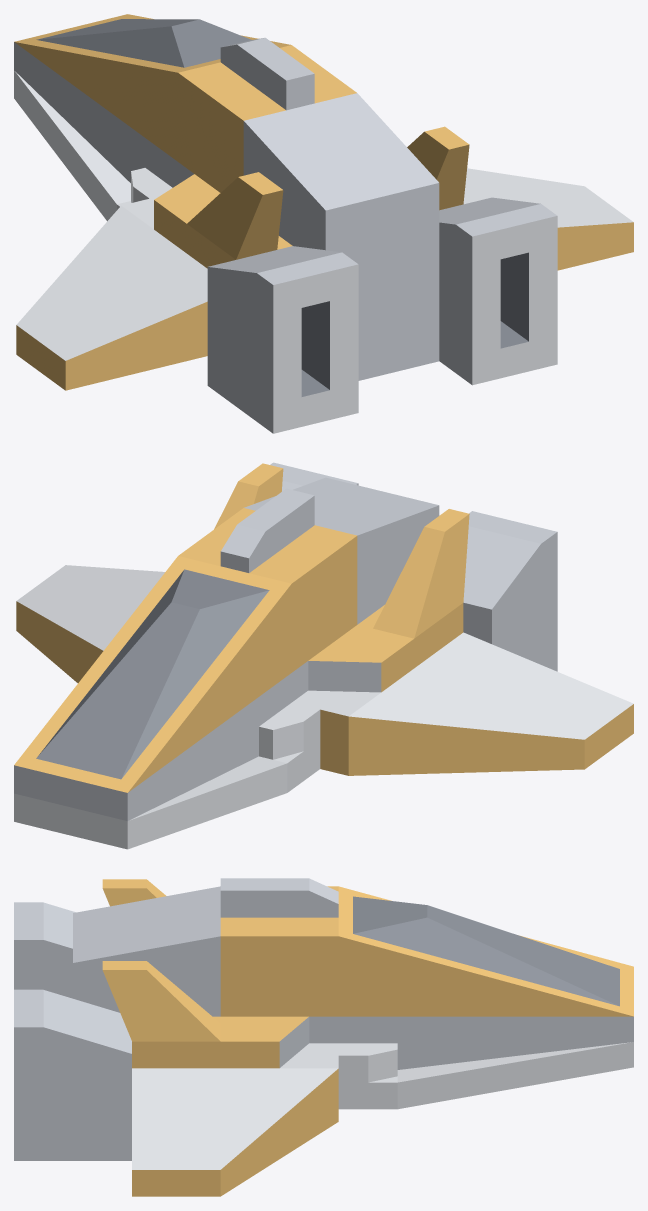
The model's file is kenney_speeder.glb.
3 renders of one model, top to bottom at view 1: azimuth 30°, elevation 25°; view 2: azimuth 150°, elevation 25°; view 3: azimuth 270°, elevation 25°, orthographic. The views are drawn at different scales.
Visible parts, largest first — view 1: craft_speederA; view 2: craft_speederA; view 3: craft_speederA.
Boxes of the visible parts, <box> form: craft_speederA: <box>14,14,633,433</box>; craft_speederA: <box>14,462,633,849</box>; craft_speederA: <box>14,878,633,1196</box>.
Size of the model in its own units: 2 by 0.8 by 2.1.
